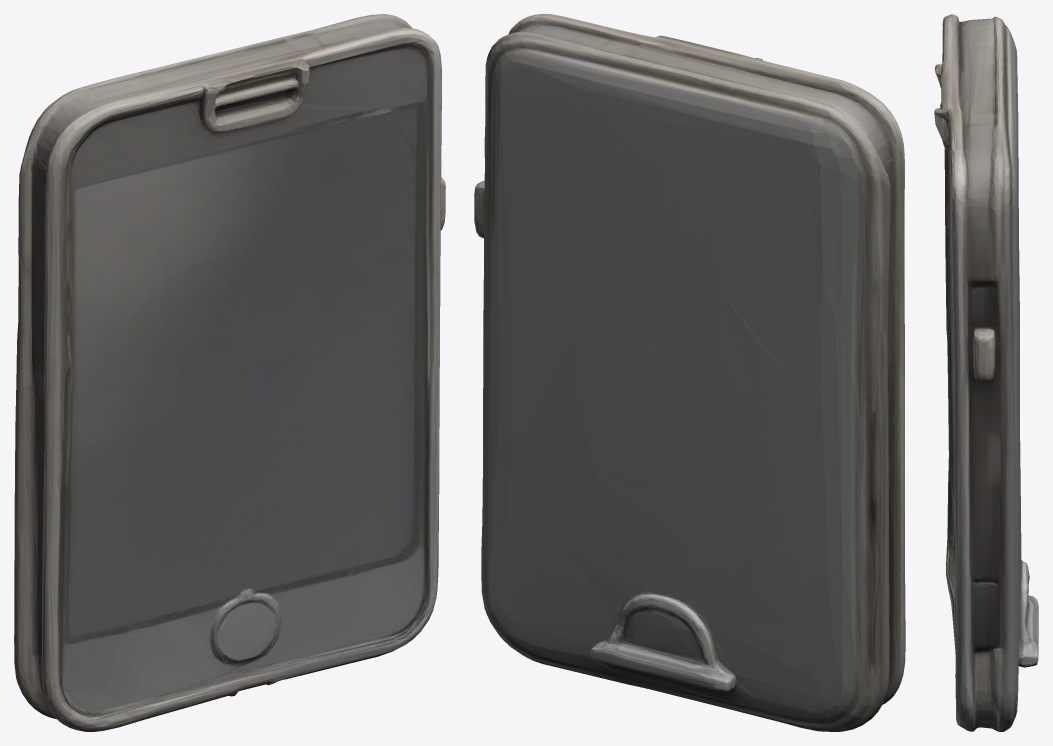
The model's file is smartphone-classic.glb.
3 renders of one model, left to right at view 1: azimuth 30°, elevation 25°; view 2: azimuth 150°, elevation 25°; view 3: azimuth 270°, elevation 25°, orthographic. The views are drawn at different scales.
Parts seen in each view (by area): view 1: world; view 2: world; view 3: world.
Boxes of the visible parts, x1,y1,x2,y2 form: world: (14, 14, 445, 731); world: (474, 14, 905, 731); world: (934, 14, 1038, 731).
Size of the model in its own units: 0.6971 by 0.998 by 0.1623.
1 material, 1 textured.
